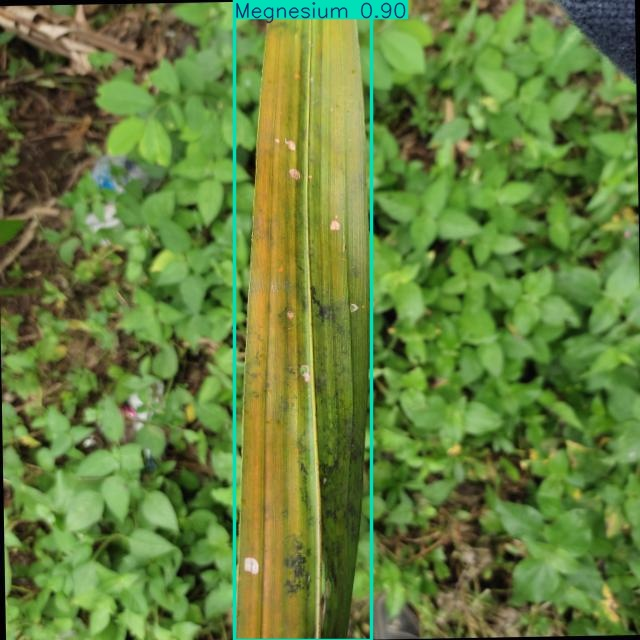Megnesium: (234, 0, 371, 640)
